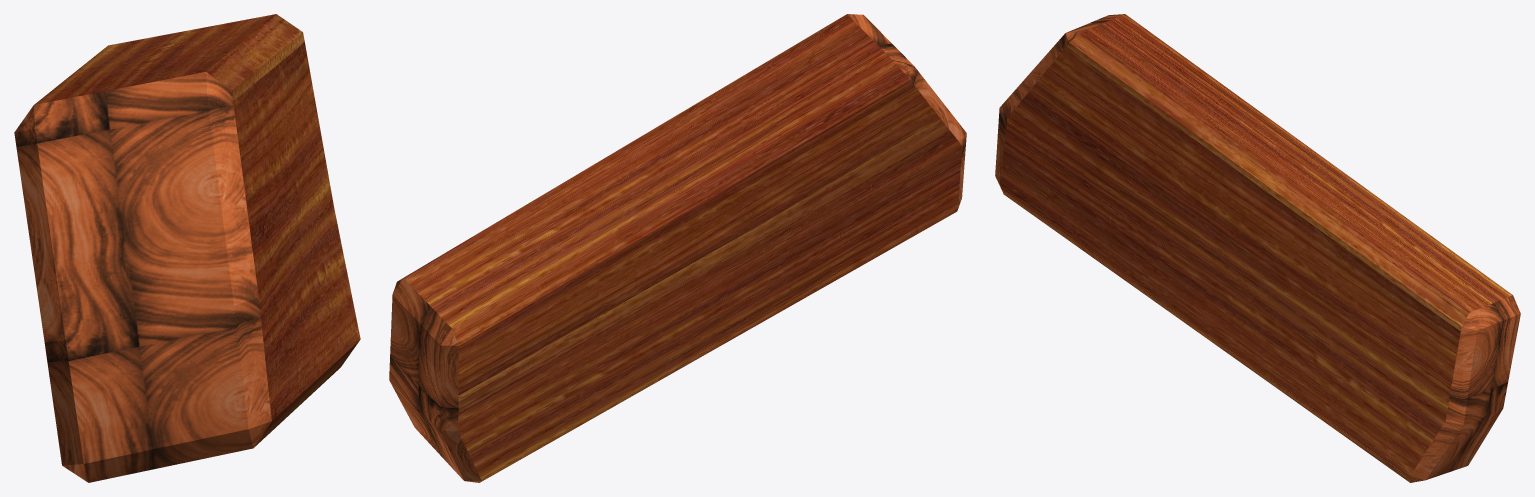
File: quanyi_J_D_yiquan0304_sai.FBX
3 renders of one model, left to right at view 1: azimuth 30°, elevation 25°; view 2: azimuth 150°, elevation 25°; view 3: azimuth 270°, elevation 25°, orthographic. The views are drawn at different scales.
Parts seen in each view (by area): view 1: quanyi_J_D_yiquan0304_sai; view 2: quanyi_J_D_yiquan0304_sai; view 3: quanyi_J_D_yiquan0304_sai.
Boxes of the visible parts, left/top/right/bottom form: quanyi_J_D_yiquan0304_sai: left=14, top=14, right=360, bottom=482; quanyi_J_D_yiquan0304_sai: left=389, top=14, right=966, bottom=482; quanyi_J_D_yiquan0304_sai: left=995, top=14, right=1520, bottom=482.
Bounding box in the file's own units: 1.95 × 1.9 × 2.55.
Materials: 2 (2 with a texture image).
